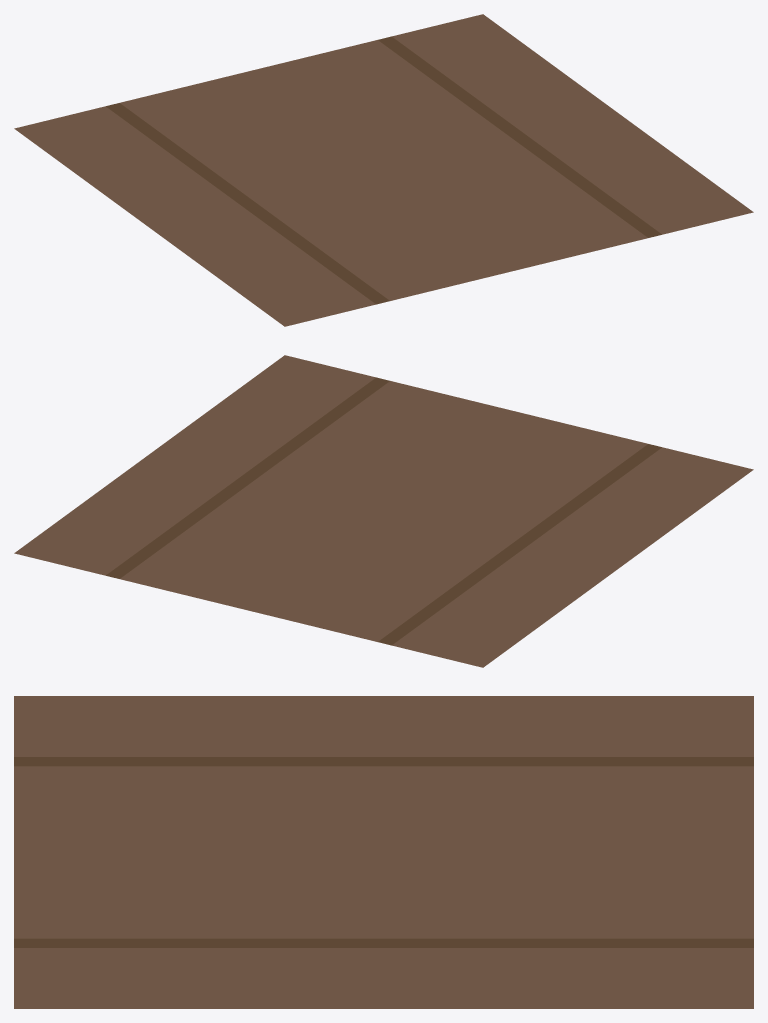
The model's file is SPW_Medieval_Road_01.glb.
The picture shows the model from 3 angles, top to bottom: view 1: azimuth 30°, elevation 25°; view 2: azimuth 150°, elevation 25°; view 3: azimuth 270°, elevation 25°; orthographic projection. The views are drawn at different scales.
Visible parts, largest first — view 1: SPW_Medieval_Road_01; view 2: SPW_Medieval_Road_01; view 3: SPW_Medieval_Road_01.
Boxes of the visible parts, x1,y1,x2,y2 form: SPW_Medieval_Road_01: [14, 14, 753, 326]; SPW_Medieval_Road_01: [14, 355, 753, 667]; SPW_Medieval_Road_01: [14, 696, 753, 1008].
Size of the model in its own units: 5 by 6.24e-07 by 5.
1 material, 1 textured.
